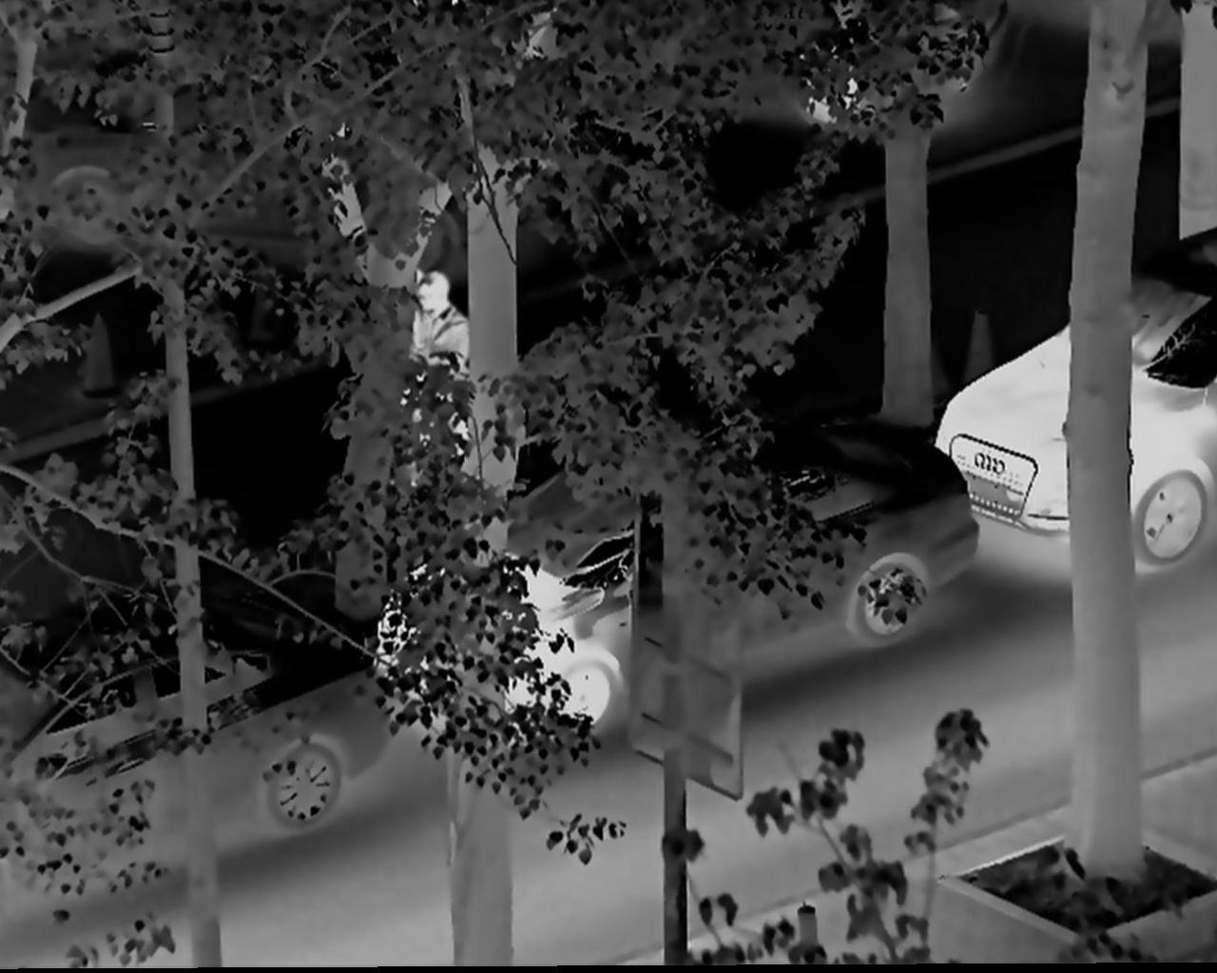person: (399, 258, 475, 393)
